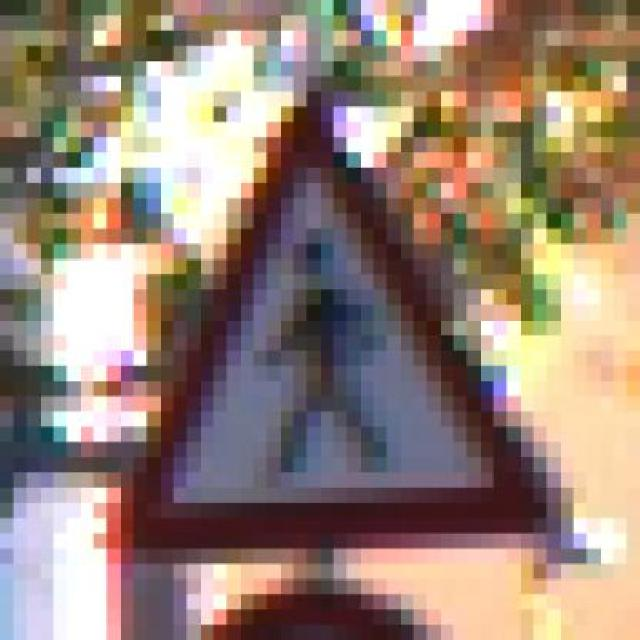Pedestrian Crossing: (106, 91, 574, 564)
